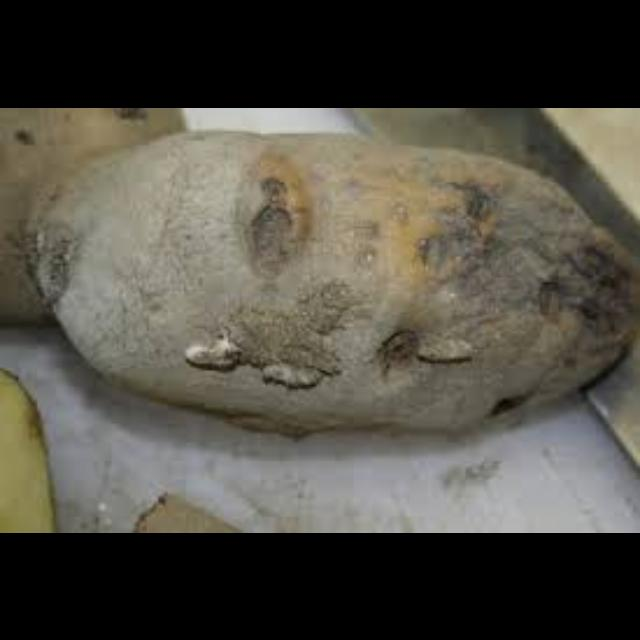Diseased-fungal potato: (26, 134, 640, 450)
